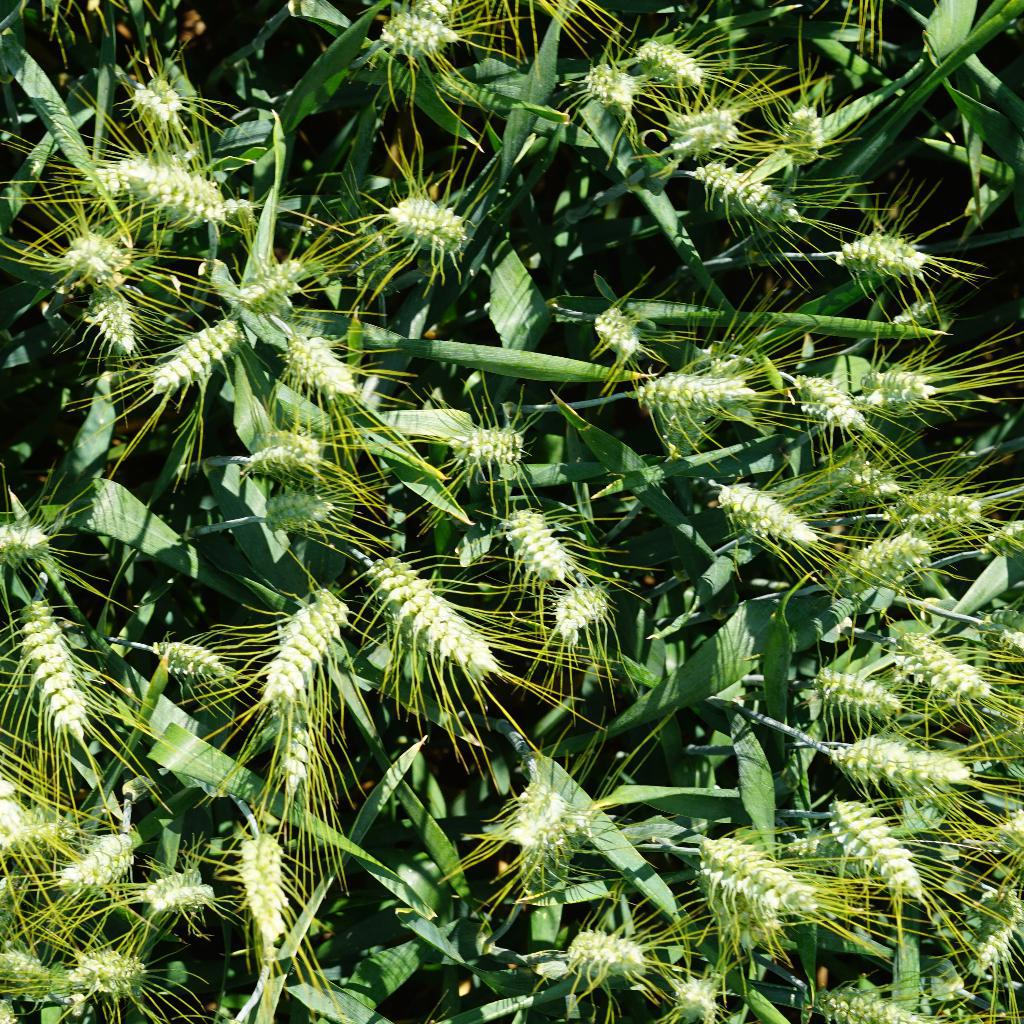0-0: (366, 552, 505, 688), (690, 823, 838, 926), (86, 137, 236, 231), (261, 572, 354, 714), (821, 792, 938, 901), (14, 595, 92, 752), (677, 857, 802, 947), (822, 724, 976, 793), (659, 351, 751, 465), (512, 797, 604, 907), (146, 307, 258, 395), (232, 825, 302, 960), (720, 466, 823, 557), (740, 459, 864, 533), (817, 524, 937, 600), (266, 695, 342, 810), (892, 628, 1002, 706), (635, 361, 766, 421), (823, 970, 960, 1024), (958, 875, 1024, 987), (705, 157, 804, 231), (810, 653, 915, 721), (47, 817, 135, 897), (778, 829, 895, 888), (387, 183, 473, 262), (507, 777, 590, 856), (496, 508, 583, 583), (567, 915, 656, 987), (0, 933, 73, 1020), (123, 60, 200, 138), (843, 228, 942, 288), (428, 60, 517, 126), (893, 478, 990, 538), (793, 369, 874, 440), (235, 251, 317, 321), (71, 944, 146, 1020), (651, 98, 744, 159), (284, 336, 369, 402), (381, 0, 463, 67), (434, 421, 537, 474), (142, 866, 227, 930), (0, 515, 74, 586), (631, 32, 721, 90), (542, 578, 623, 642), (77, 284, 146, 357), (149, 632, 238, 688), (864, 358, 946, 418), (245, 428, 337, 479), (833, 452, 914, 509), (53, 223, 129, 283), (582, 299, 656, 359), (579, 49, 641, 118), (261, 488, 346, 537), (774, 94, 840, 157), (665, 971, 733, 1024), (0, 796, 63, 847), (881, 294, 952, 333), (974, 516, 1024, 566)
